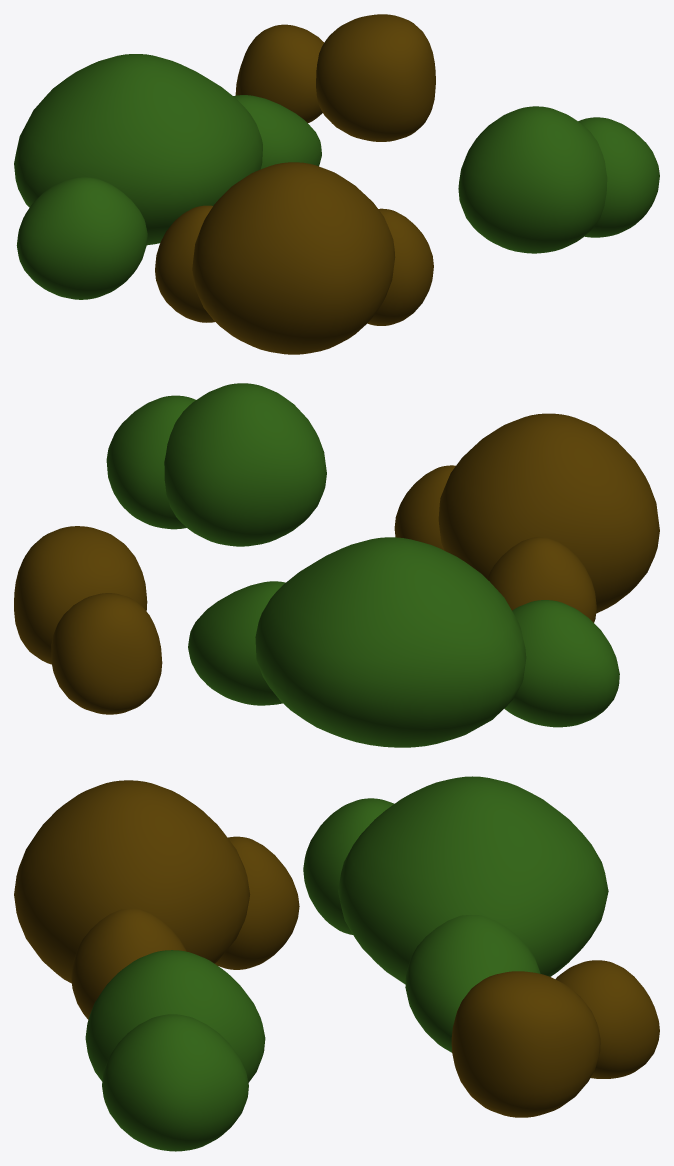
File: bushes.FBX
3 views of the same model, one above another, from view 1: azimuth 30°, elevation 25°; view 2: azimuth 150°, elevation 25°; view 3: azimuth 270°, elevation 25° (orthographic). The views are drawn at different scales.
Visible parts, largest first — view 1: bush001, bush, bush 2, bush 003; view 2: bush001, bush, bush 2, bush 003; view 3: bush001, bush, bush 2, bush 003.
Boxes of the visible parts, x1,y1,x2,y2 form: bush001: [14, 54, 321, 299]; bush: [155, 162, 433, 354]; bush 2: [458, 106, 659, 253]; bush 003: [235, 14, 435, 141]; bush001: [188, 537, 619, 747]; bush: [394, 413, 659, 622]; bush 2: [106, 383, 326, 546]; bush 003: [14, 526, 162, 714]; bush001: [303, 776, 608, 1052]; bush: [14, 780, 299, 1019]; bush 2: [85, 950, 265, 1151]; bush 003: [451, 960, 659, 1117].
Bounding box in the file's own units: 395 × 122 × 357.
